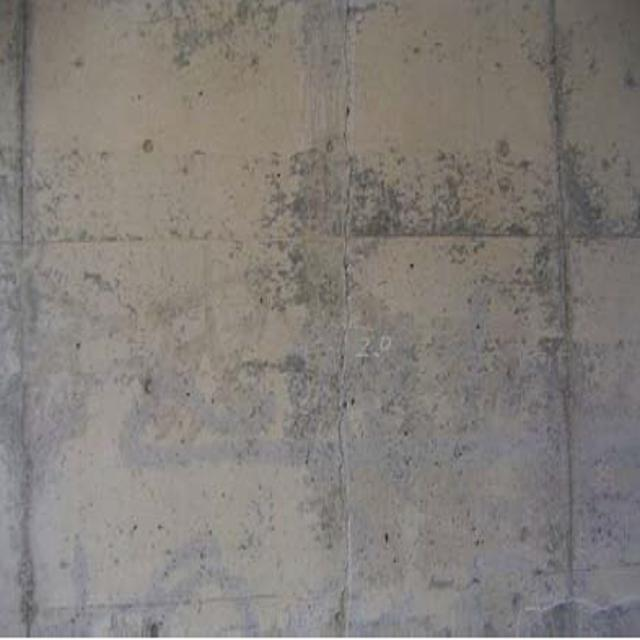crack: (330, 16, 376, 623)
